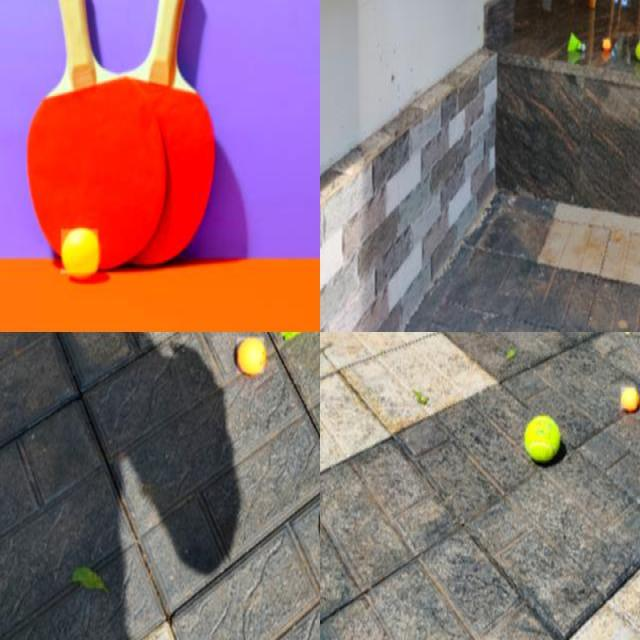ping-pong-ball: (61, 229, 99, 275), (237, 337, 265, 375), (621, 386, 637, 411), (602, 39, 612, 49)
